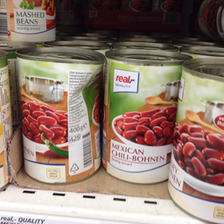beans: (13, 47, 103, 188), (105, 49, 178, 188), (174, 59, 224, 223)
